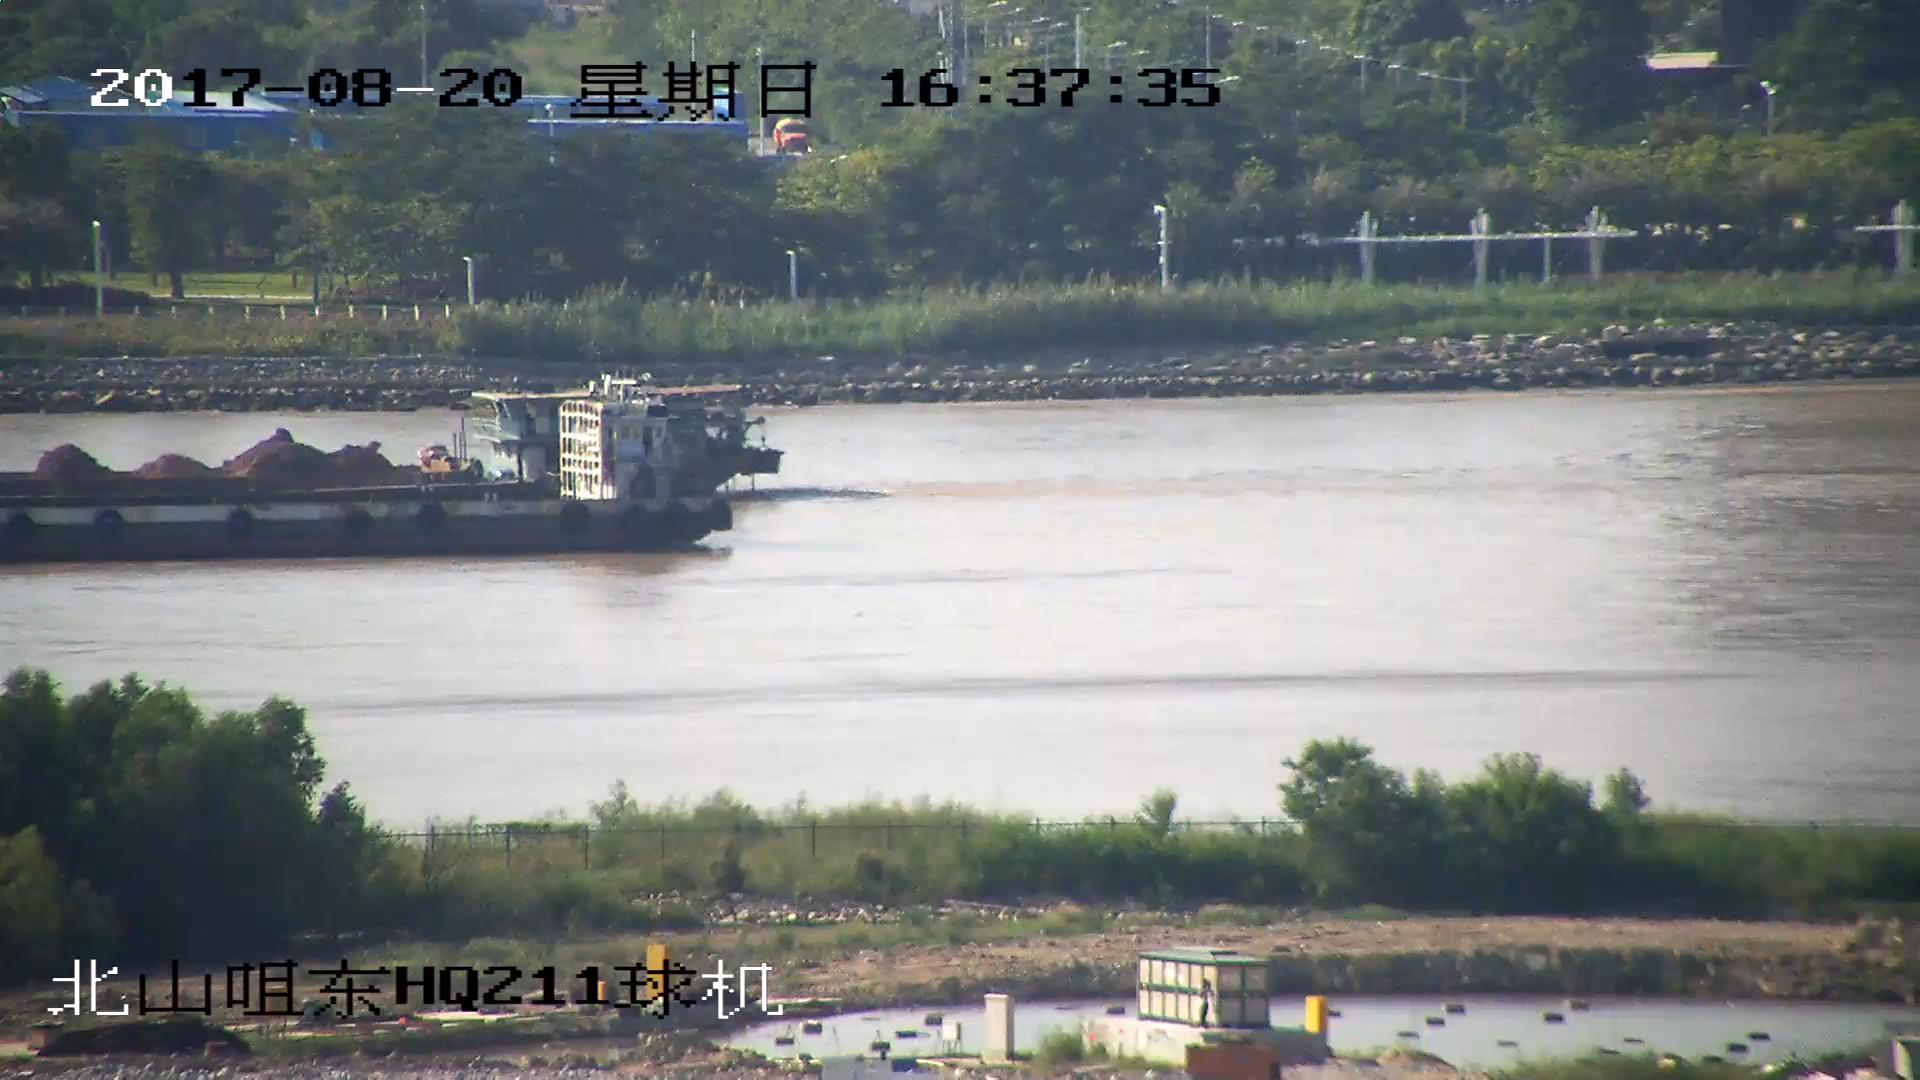Ship: (3, 396, 737, 558), (3, 398, 781, 504)
